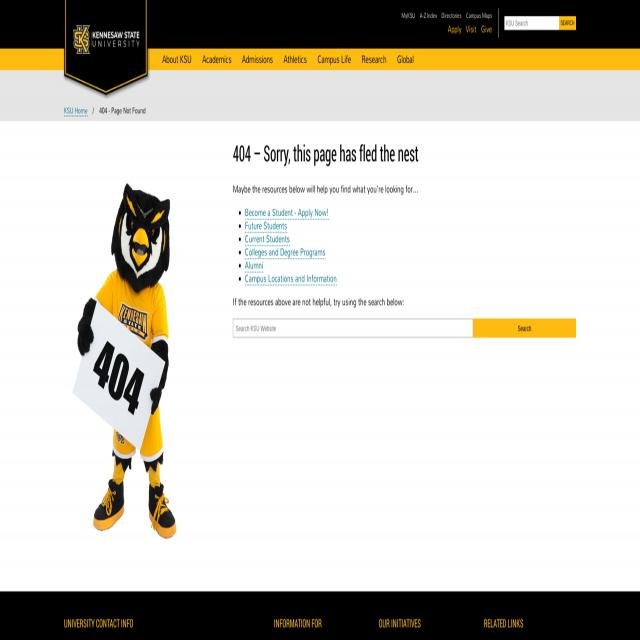button: (61, 169, 205, 565), (66, 26, 146, 56), (473, 318, 576, 338), (559, 16, 576, 31)
field: (233, 318, 473, 338), (505, 16, 559, 31)
